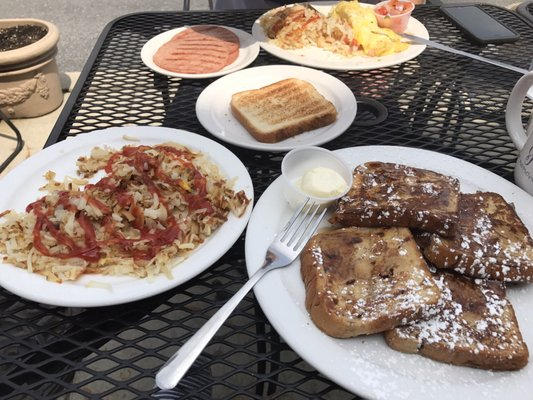burger: (146, 199, 329, 394)
pizza: (0, 17, 65, 119), (281, 147, 353, 206)
sushi: (505, 62, 533, 198)
